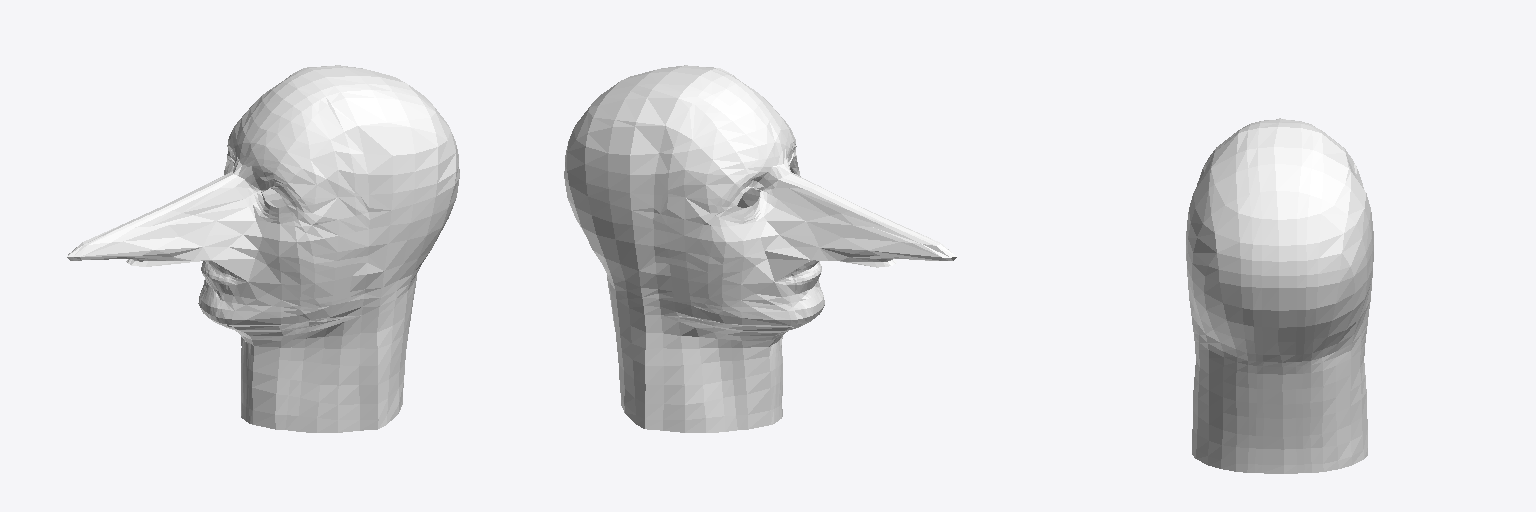
Rendered from cwk2.obj.
The picture shows the model from 3 angles: view 1: azimuth 30°, elevation 25°; view 2: azimuth 150°, elevation 25°; view 3: azimuth 270°, elevation 25°; orthographic projection.
Parts seen in each view (by area): view 1: g0; view 2: g0; view 3: g0.
Part boxes in pixels (x1,y1,x2,y2): g0: (67,65,459,432); g0: (564,65,956,432); g0: (1186,118,1373,473).
Bounding box in the file's own units: 2.43 × 2 × 1.05.